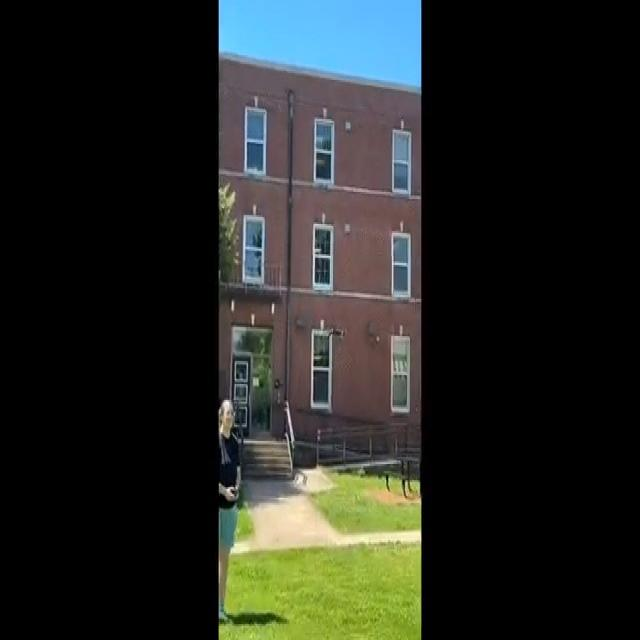drone: (323, 320, 348, 345)
